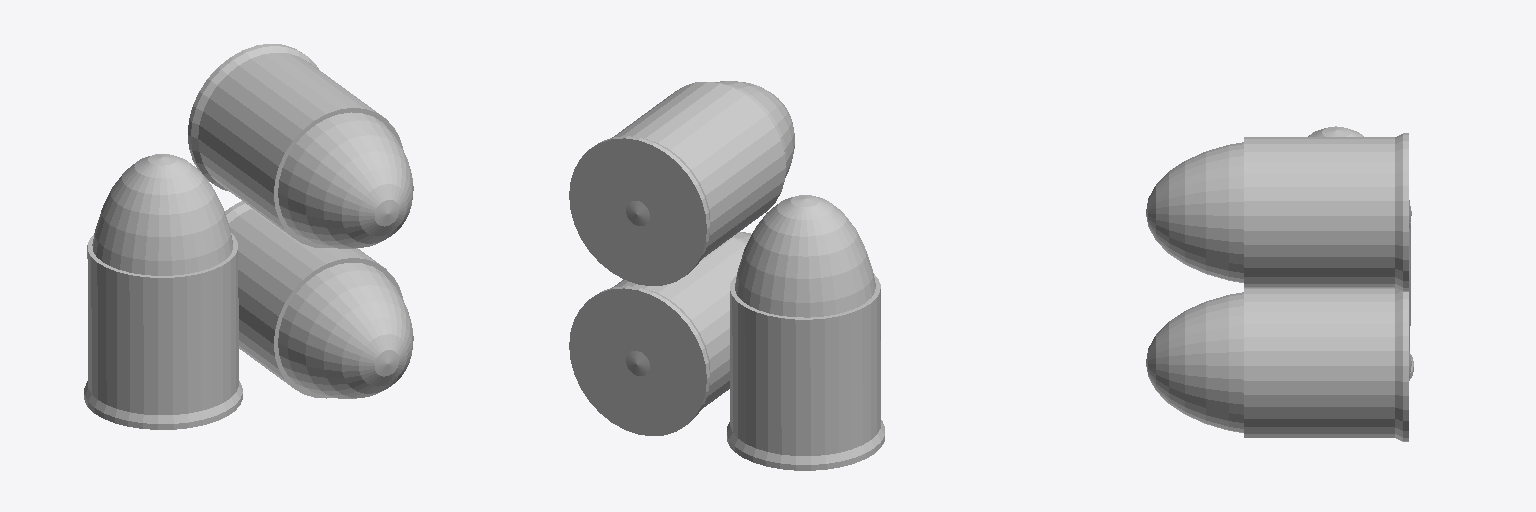
File: Granade3.obj
3 renders of one model, left to right at view 1: azimuth 30°, elevation 25°; view 2: azimuth 150°, elevation 25°; view 3: azimuth 270°, elevation 25°, orthographic.
Visible parts, largest first — view 1: Cylinder.002, Cylinder, Sphere, Sphere.001, Sphere.002, Cylinder.001; view 2: Cylinder, Cylinder.002, Cylinder.001, Sphere.002, Sphere, Sphere.001; view 3: Cylinder, Cylinder.001, Sphere, Sphere.001.
Boxes of the visible parts, <box> form: Cylinder.002: <box>84,233,242,429</box>; Cylinder: <box>188,44,403,247</box>; Sphere: <box>278,112,413,248</box>; Sphere.001: <box>278,263,413,398</box>; Sphere.002: <box>92,154,232,275</box>; Cylinder.001: <box>225,201,403,398</box>; Cylinder: <box>569,82,785,285</box>; Cylinder.002: <box>727,274,884,470</box>; Cylinder.001: <box>569,237,745,435</box>; Sphere.002: <box>735,195,875,317</box>; Sphere: <box>626,81,794,225</box>; Sphere.001: <box>626,232,751,375</box>; Cylinder: <box>1244,133,1408,291</box>; Cylinder.001: <box>1244,288,1408,441</box>; Sphere: <box>1146,142,1411,282</box>; Sphere.001: <box>1146,292,1411,432</box>.
Bounding box in the file's own units: 374 × 392 × 324.